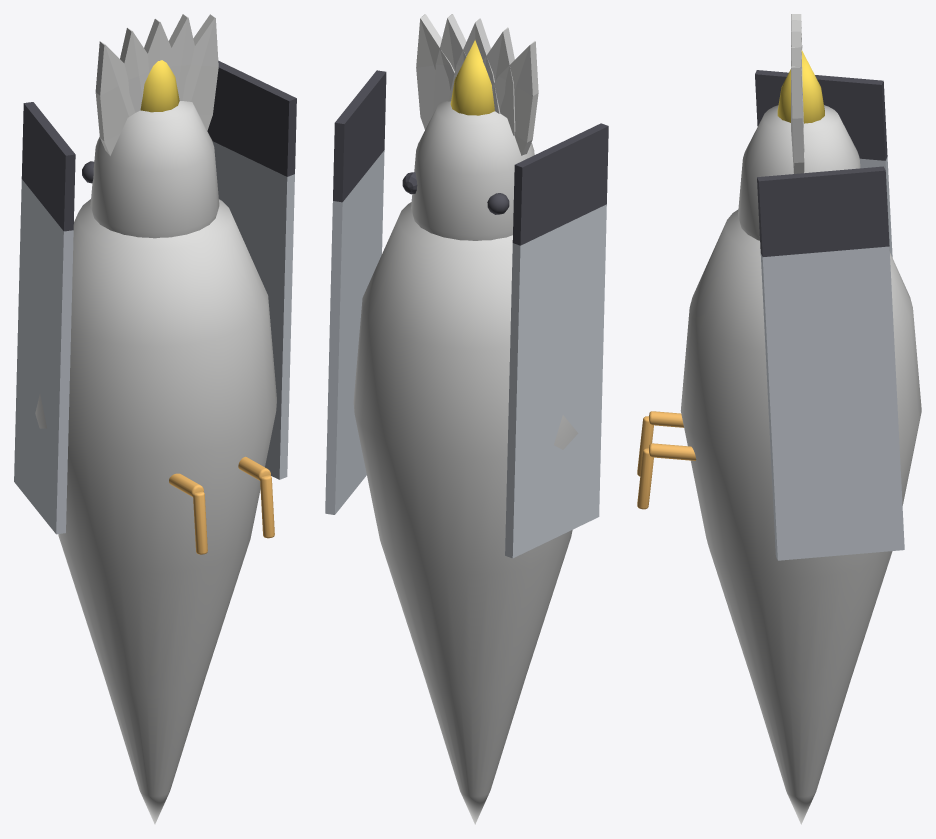
The model's file is seagull_perch.glb.
3 views of the same model, side by side, from view 1: azimuth 30°, elevation 25°; view 2: azimuth 150°, elevation 25°; view 3: azimuth 270°, elevation 25° (orthographic).
Visible parts, largest first — view 1: seagull_perch; view 2: seagull_perch; view 3: seagull_perch.
Boxes of the visible parts, x1,y1,x2,y2 form: seagull_perch: (14,14,296,824); seagull_perch: (325,14,608,824); seagull_perch: (637,14,921,824).
Bounding box in the file's own units: 0.2078 × 0.69 × 0.2244.
